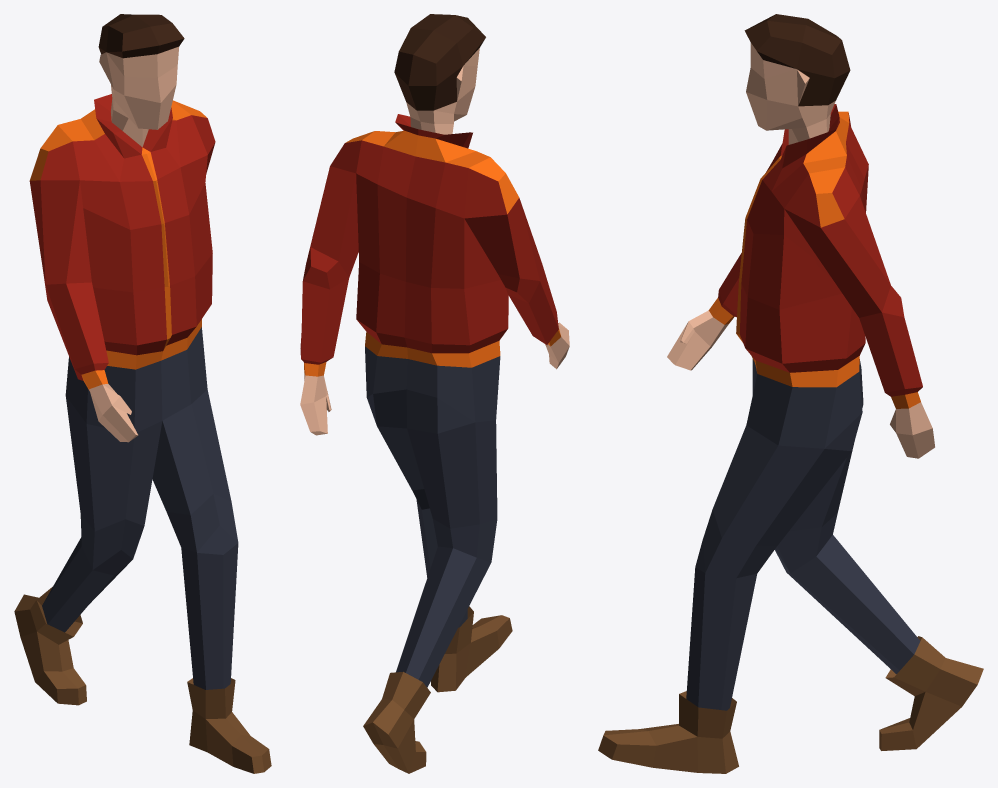
File: AutumnManC.005.glb
3 views of the same model, side by side, from view 1: azimuth 30°, elevation 25°; view 2: azimuth 150°, elevation 25°; view 3: azimuth 270°, elevation 25° (orthographic). The views are drawn at different scales.
Visible parts, largest first — view 1: AutumnManC.005; view 2: AutumnManC.005; view 3: AutumnManC.005.
Part boxes in pixels (box(x1,y1,x2,y2)): AutumnManC.005: box(14, 14, 271, 773); AutumnManC.005: box(300, 14, 569, 773); AutumnManC.005: box(598, 14, 983, 773).
Bounding box in the file's own units: 0.4852 × 1.72 × 0.8194.
1 material, 1 textured.
